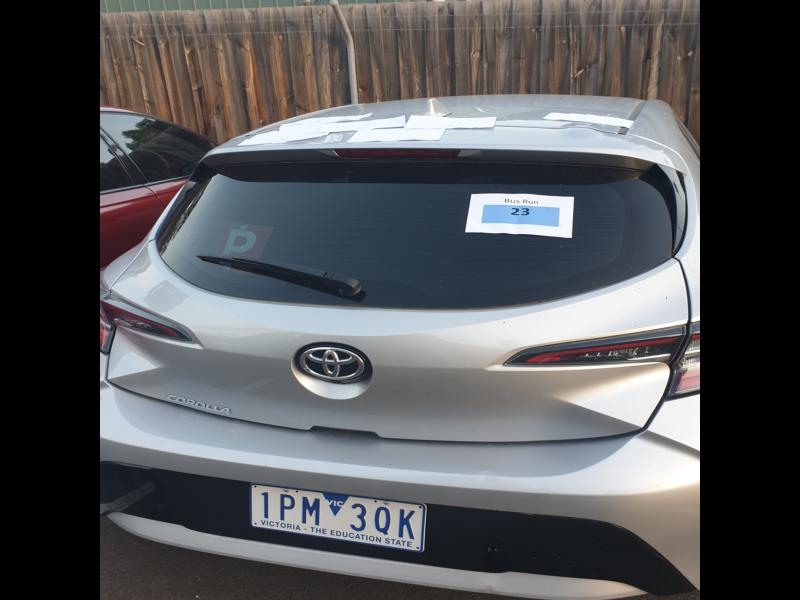BusRun: (480, 203, 560, 226)
PlateNo: (248, 484, 427, 556)
